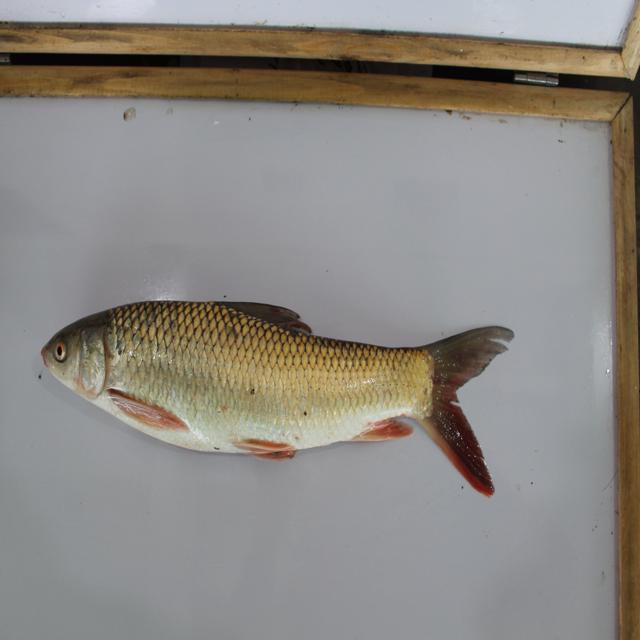Mori: (14, 285, 527, 510)
